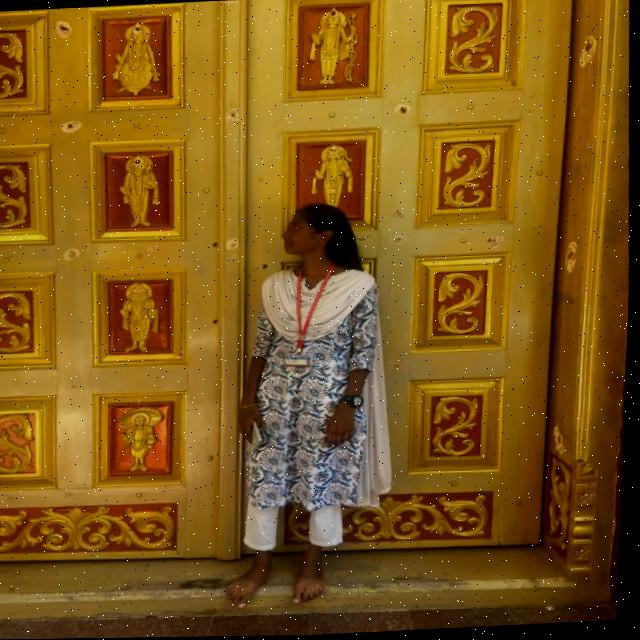id_card: (282, 267, 344, 380)
